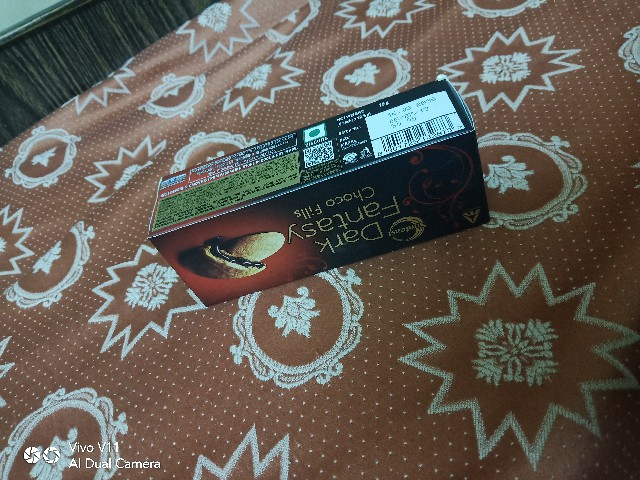darkfantasy big: (139, 72, 481, 329)
